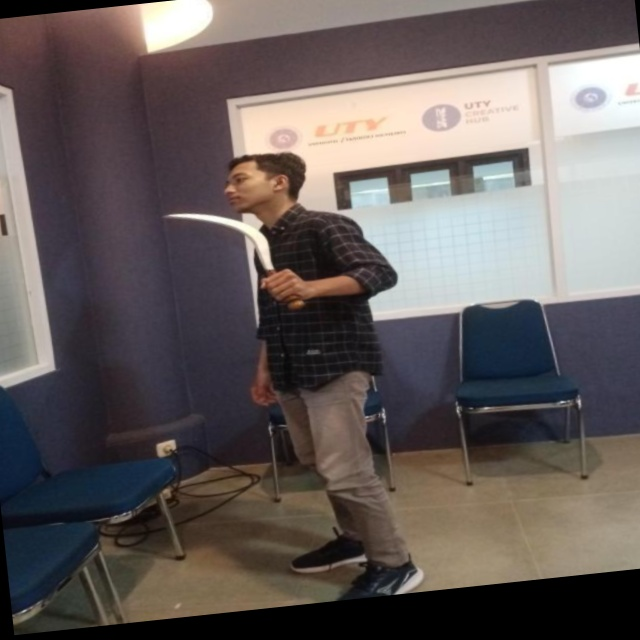Sharp-Object: (157, 195, 326, 326)
